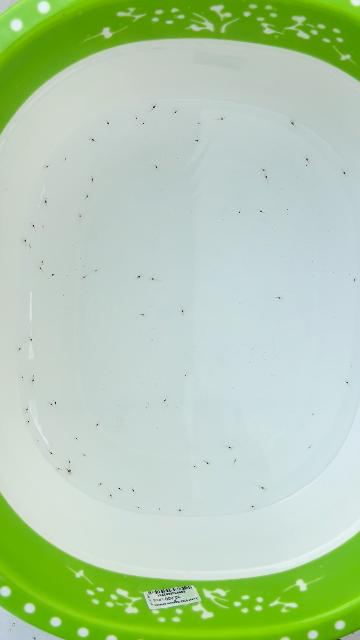benur: (152, 104, 158, 110), (289, 120, 294, 125), (89, 137, 94, 141), (44, 166, 49, 170), (31, 223, 35, 228), (23, 237, 27, 242), (17, 348, 21, 353), (25, 408, 29, 413), (50, 452, 55, 456), (110, 494, 114, 499), (132, 489, 136, 494), (261, 487, 266, 491), (343, 172, 347, 177), (264, 173, 268, 178), (162, 399, 166, 404), (206, 462, 211, 466), (221, 117, 226, 121), (172, 111, 177, 115), (79, 213, 82, 219), (195, 140, 201, 143), (91, 176, 94, 182), (105, 120, 109, 124), (40, 261, 44, 265), (81, 276, 85, 280), (69, 469, 73, 473), (117, 486, 121, 490), (137, 506, 141, 510), (344, 380, 348, 384), (94, 424, 98, 428), (192, 464, 196, 468), (154, 164, 158, 168), (44, 198, 47, 203), (29, 336, 32, 341), (27, 420, 30, 425), (68, 470, 71, 475), (249, 505, 254, 508), (228, 447, 233, 450), (278, 297, 283, 300), (305, 156, 308, 161), (135, 276, 140, 279), (181, 310, 184, 315), (86, 194, 89, 198), (38, 265, 41, 269), (50, 274, 54, 277), (20, 374, 23, 378), (32, 378, 35, 382), (53, 400, 56, 404), (48, 402, 52, 405), (82, 453, 86, 456), (97, 483, 101, 486), (234, 458, 237, 462), (307, 446, 310, 450), (353, 277, 356, 281), (262, 169, 266, 172), (258, 209, 262, 212), (150, 277, 154, 280), (183, 374, 186, 378), (141, 314, 146, 316), (74, 437, 77, 440), (141, 122, 145, 124), (159, 507, 161, 511), (177, 509, 181, 511), (238, 211, 240, 215), (42, 225, 44, 228), (29, 243, 31, 246), (33, 375, 35, 378), (312, 413, 314, 416), (94, 270, 97, 272), (197, 122, 200, 124), (65, 158, 67, 160), (37, 439, 39, 441), (58, 468, 60, 470), (69, 461, 71, 463), (136, 116, 137, 119)
